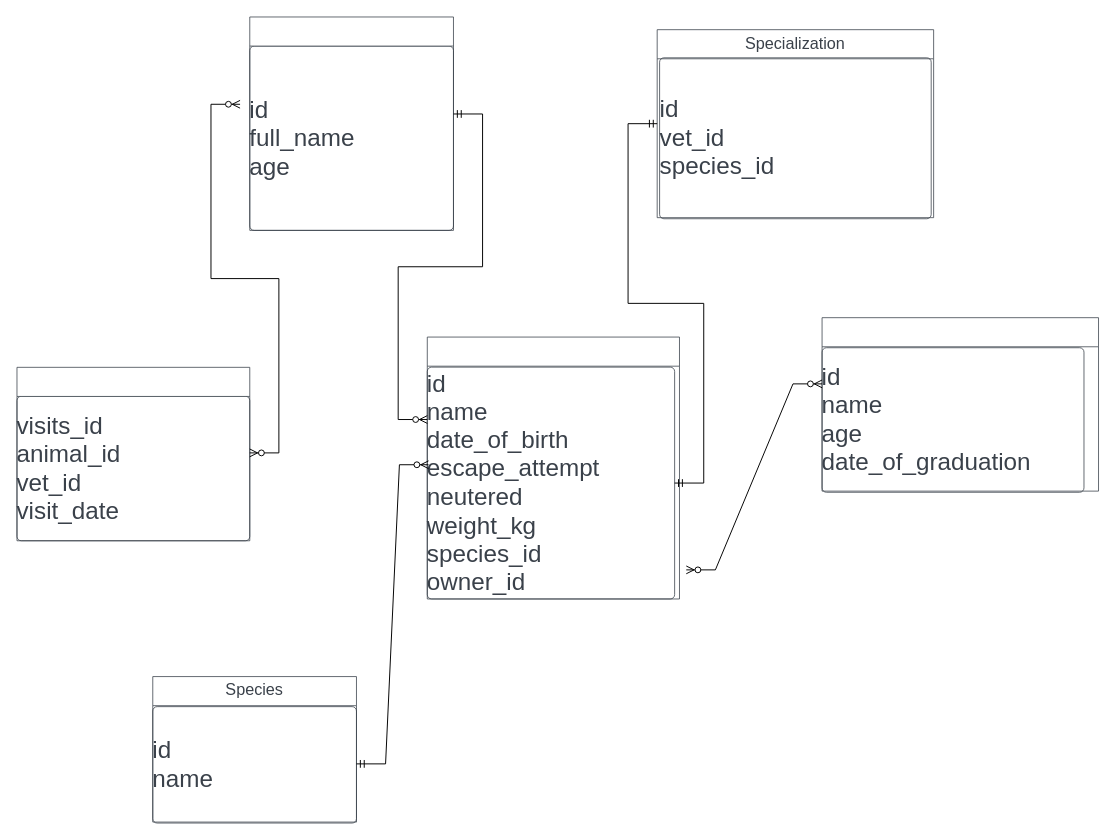
This 1116x840 diagram has some shape labels left out. The box of each missing label's shape, as (x1, y1, x2, y2) in pixels:
Animals: (426, 336, 679, 599)
Owner: (249, 16, 453, 230)
Vets: (821, 317, 1098, 491)
Visits: (16, 366, 250, 541)
